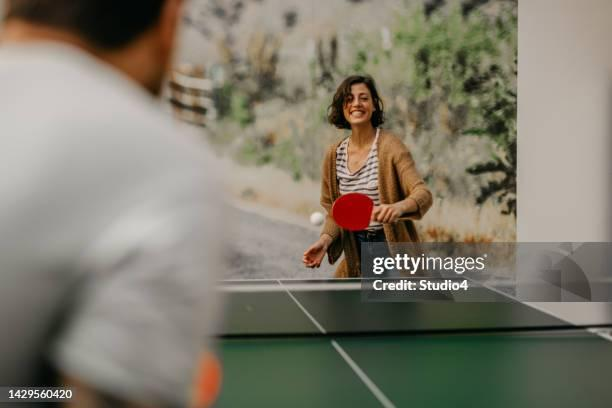ball_pingpong: (309, 211, 325, 227)
